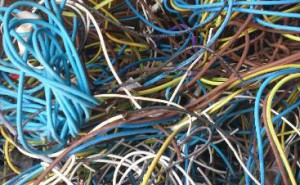more_tube: (125, 21, 276, 159), (15, 15, 107, 139)
